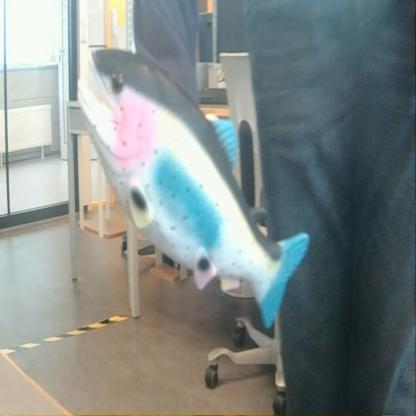rubberfish: (65, 37, 313, 332)
